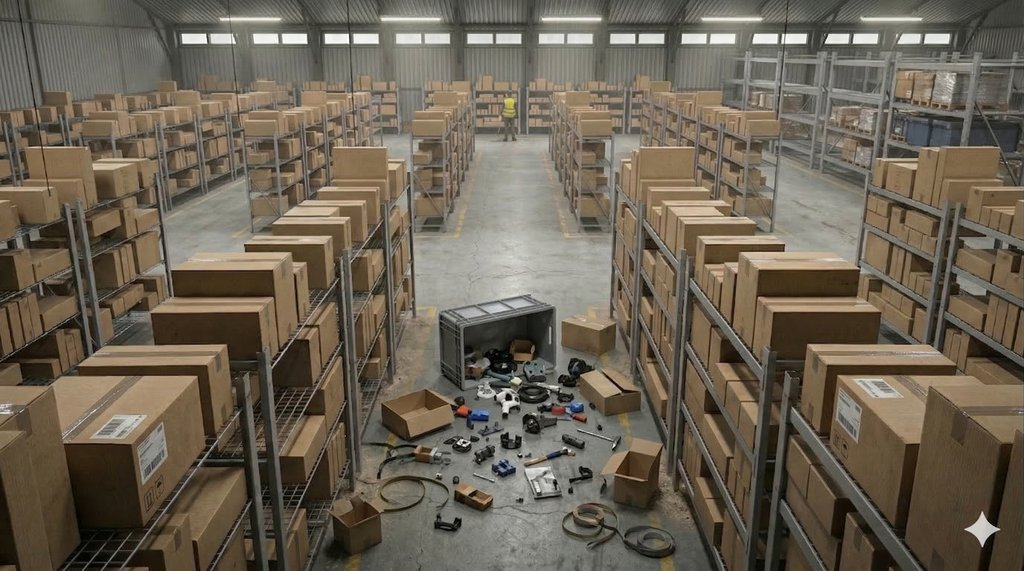empty_shelf: (723, 47, 831, 121), (816, 50, 893, 111)
obstacle: (318, 280, 701, 567)
person: (494, 89, 528, 149)
safety_vest: (503, 96, 518, 122)
